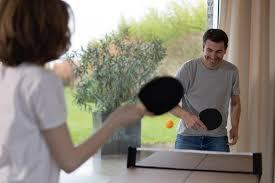ball_pingpong: (165, 119, 174, 129)
